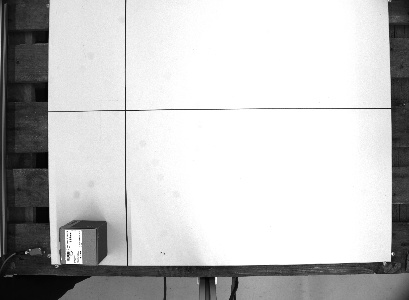b7: (56, 218, 110, 267)
